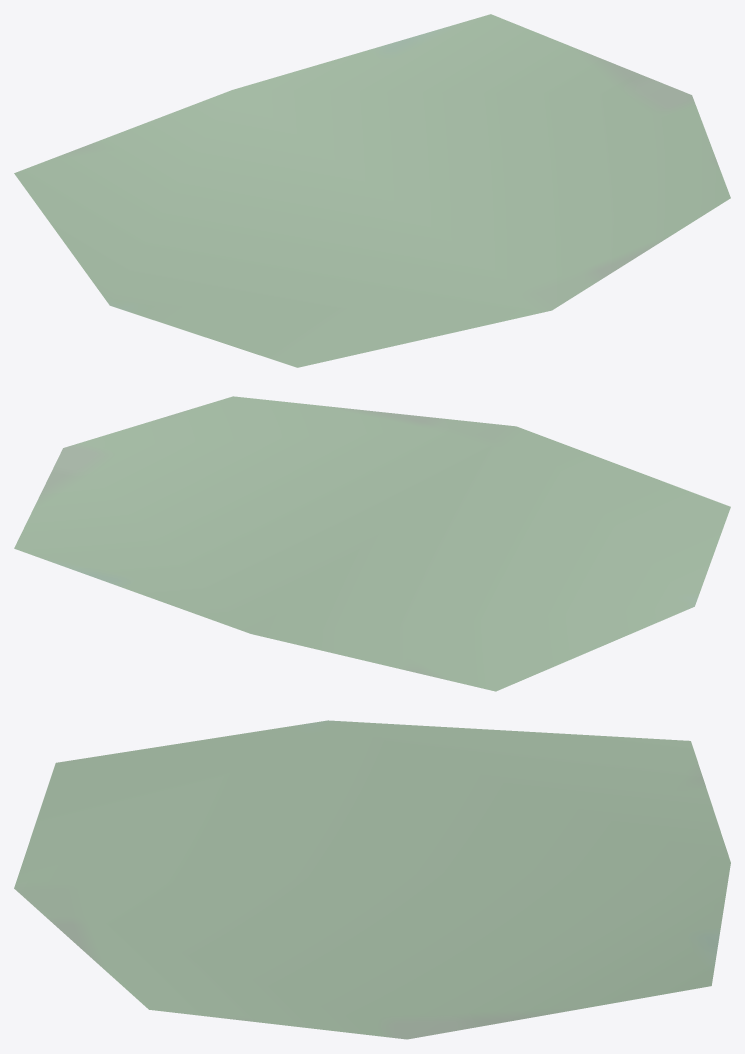
File: TROLLHOLE02_HOLECAP45.fbx
3 renders of one model, top to bottom at view 1: azimuth 30°, elevation 25°; view 2: azimuth 150°, elevation 25°; view 3: azimuth 270°, elevation 25°, orthographic. The views are drawn at different scales.
Visible parts, largest first — view 1: TROLLHOLE02_HOLECAP45; view 2: TROLLHOLE02_HOLECAP45; view 3: TROLLHOLE02_HOLECAP45.
Boxes of the visible parts, x1,y1,x2,y2 form: TROLLHOLE02_HOLECAP45: (14, 14, 730, 367); TROLLHOLE02_HOLECAP45: (14, 396, 730, 691); TROLLHOLE02_HOLECAP45: (14, 720, 730, 1039).
Size of the model in its own units: 22332 by 1524 by 18623.
Materials: 1 (1 with a texture image).
